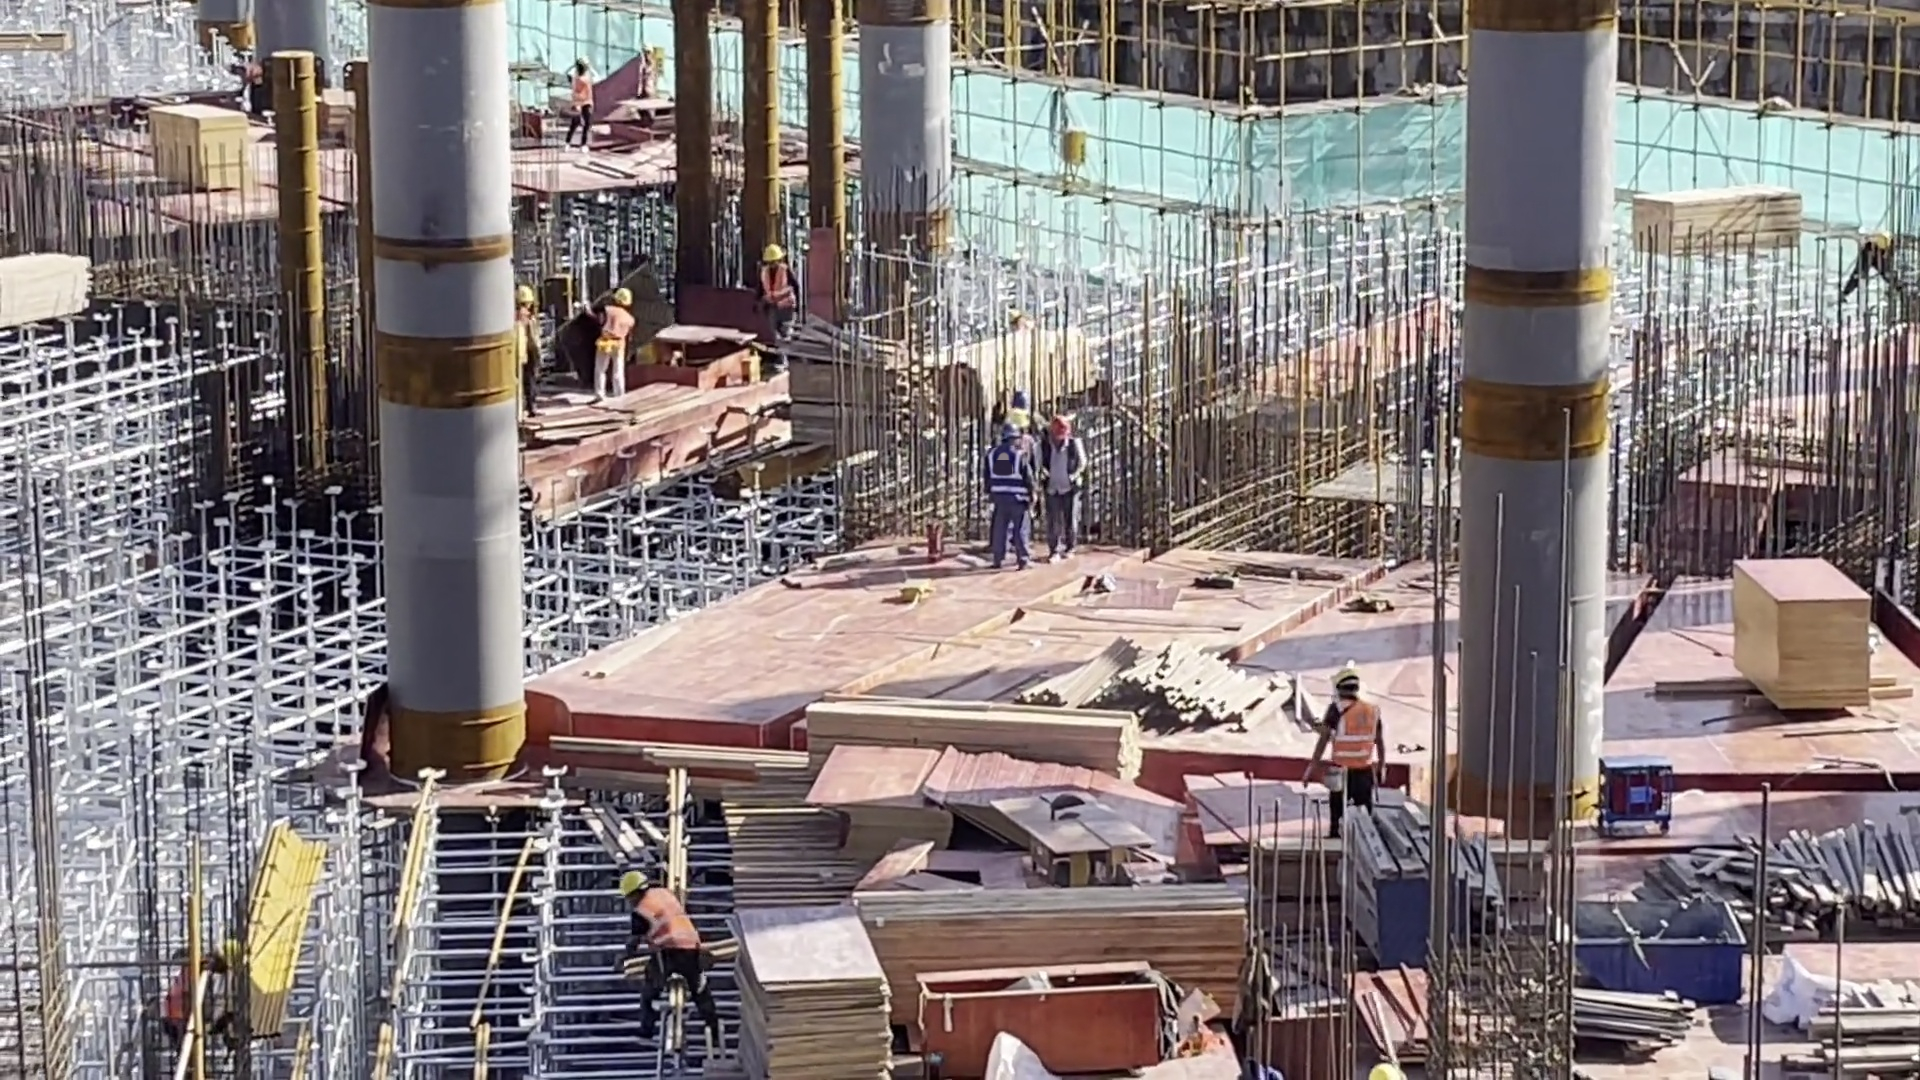board: (737, 913, 893, 1080), (1729, 556, 1871, 710), (818, 746, 954, 878), (143, 102, 255, 198), (1348, 960, 1434, 1068)
cutter: (982, 784, 1161, 888), (648, 325, 758, 397)
ebox: (1058, 129, 1089, 187)
helmet: (618, 870, 647, 898), (1332, 667, 1358, 689), (609, 288, 638, 306), (1047, 417, 1070, 439), (999, 422, 1024, 441), (759, 245, 786, 262), (513, 286, 534, 304)
hopper: (1572, 894, 1746, 1007)
person: (616, 868, 722, 1048), (1302, 667, 1385, 842), (1034, 416, 1087, 572), (985, 421, 1033, 571), (1832, 224, 1918, 306), (599, 278, 635, 395), (516, 283, 545, 420), (751, 240, 790, 335), (571, 56, 597, 153), (635, 45, 656, 115)
vest: (631, 890, 702, 953), (1327, 697, 1378, 770), (1035, 437, 1083, 492), (983, 449, 1025, 506), (756, 263, 796, 306), (601, 305, 633, 351), (570, 77, 592, 107)
wood: (1624, 820, 1920, 939), (856, 886, 1248, 971), (800, 691, 1142, 780), (1002, 642, 1310, 735), (767, 331, 908, 463), (931, 328, 1099, 421), (1781, 979, 1920, 1080), (1627, 184, 1807, 254), (1, 250, 93, 330)
